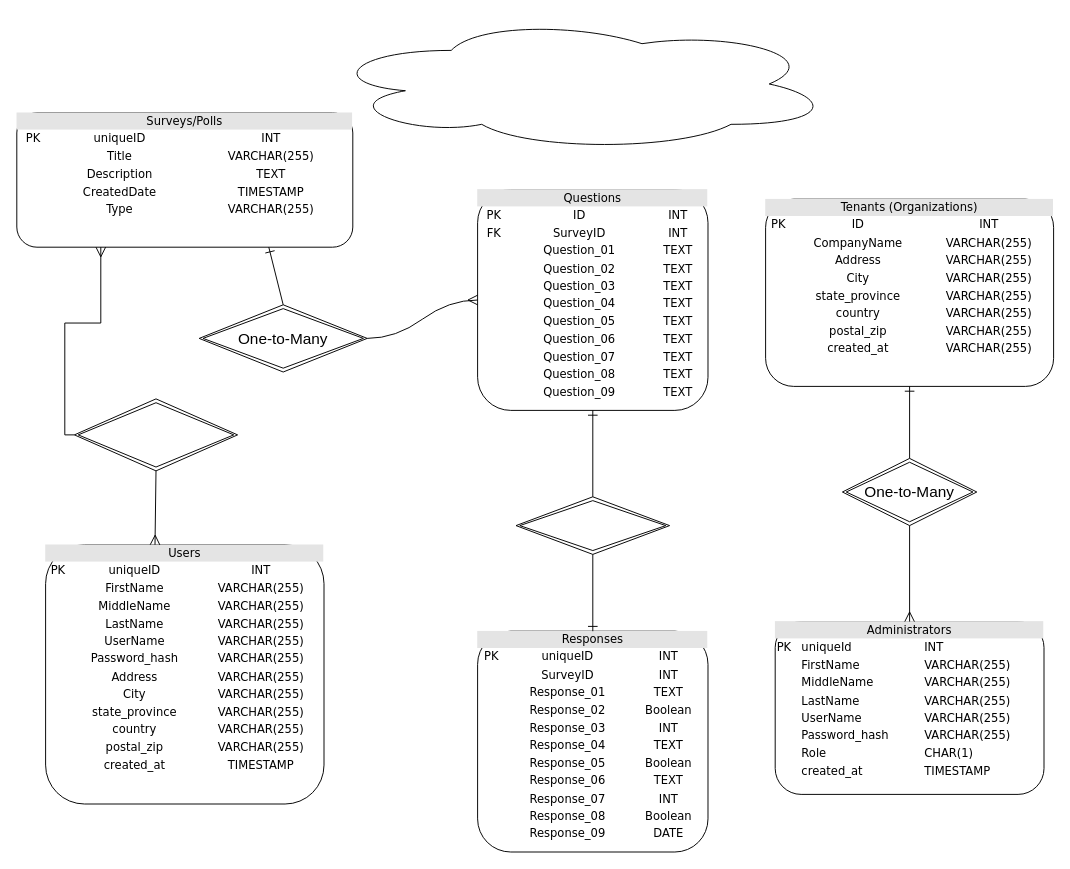
Image size: 1070x869. Some labels were removed from this diagram. Here are the shapes that lost their labels. From the top down, the box of each, then its label:
(323, 16, 833, 151): Cloud Provider (Azure, GCP etc.)
(73, 398, 238, 471): Many-to-Many
(515, 496, 670, 554): One-to-One
